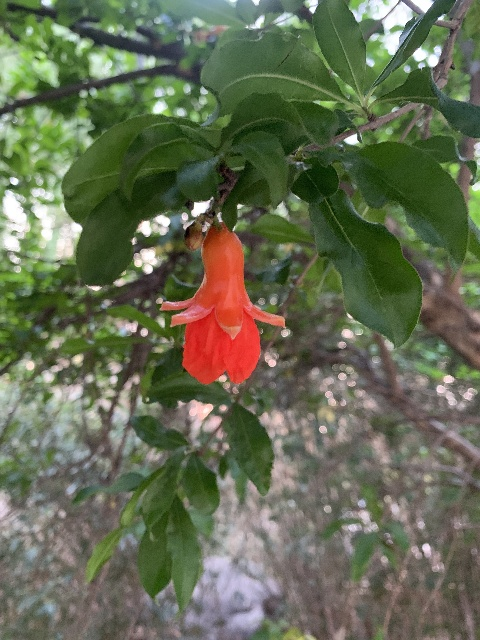bud: (184, 221, 205, 251)
flower: (160, 222, 285, 386)
